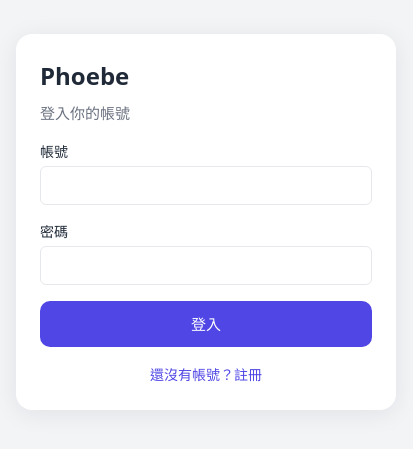
Test: LoginPage › shows API error message
In the field labelled "帳號": (206, 185) x1=40 y1=166 x2=372 y2=204, type "amy"
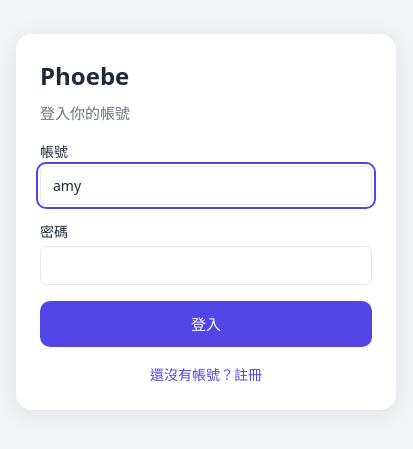
In the password field labelled "密碼": (206, 265) x1=40 y1=246 x2=372 y2=284, type "bad"
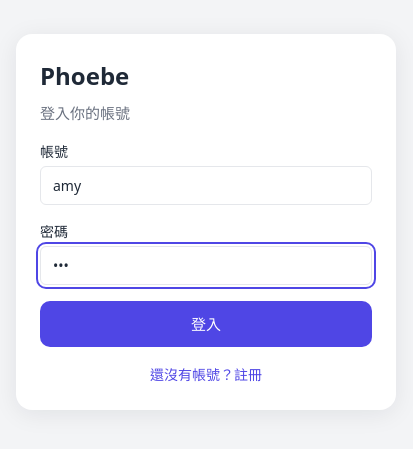
Click the button "登入": click(206, 324) x1=40 y1=300 x2=372 y2=347
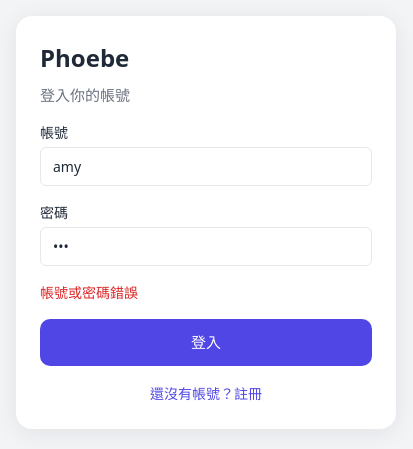
Expected: the message reads "帳號或密碼錯誤", x1=40 y1=283 x2=138 y2=302
